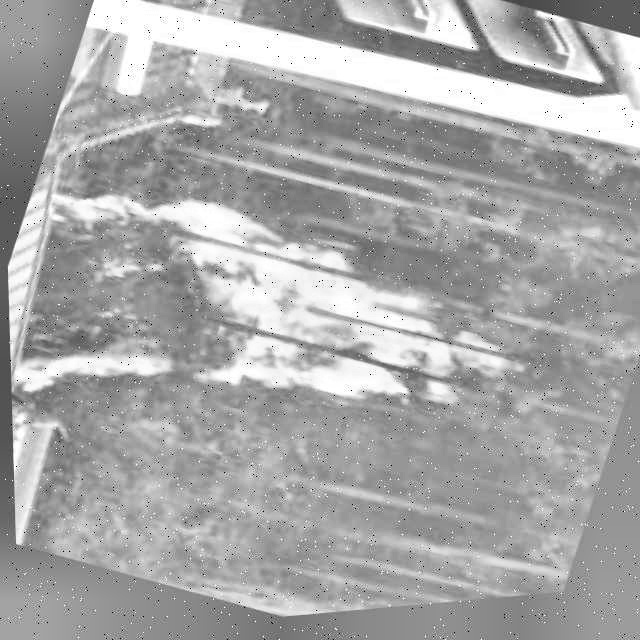Fire: (4, 113, 570, 567)
